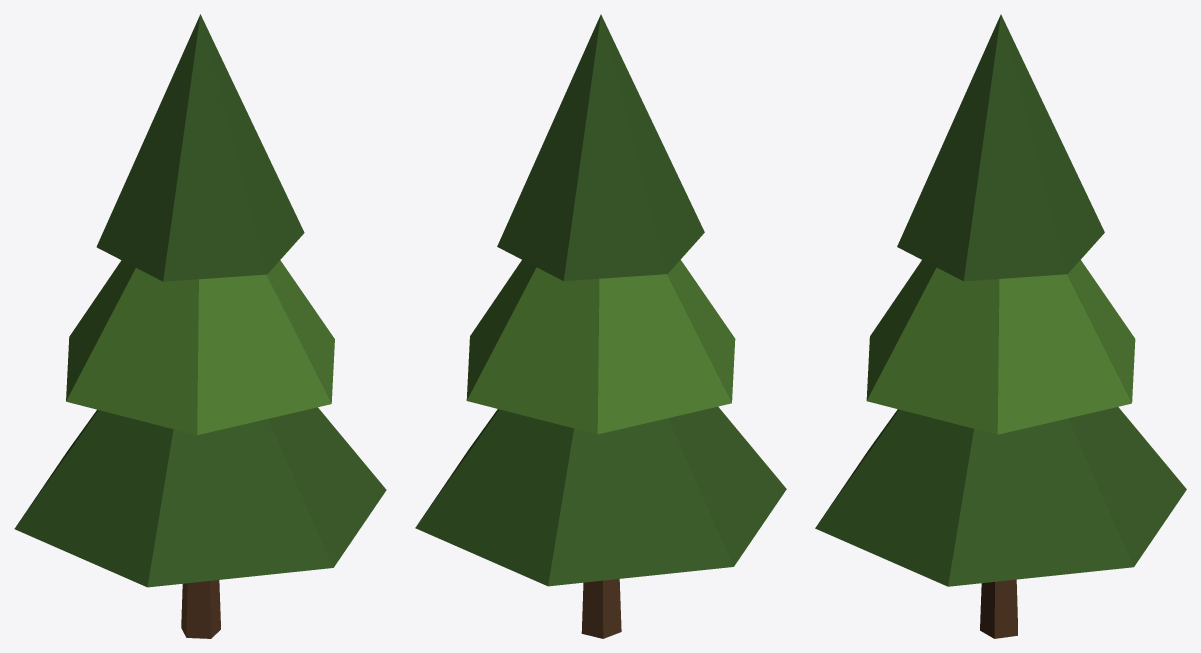
The model's file is SM_TreePine.fbx.
The picture shows the model from 3 angles, left to right: view 1: azimuth 30°, elevation 25°; view 2: azimuth 150°, elevation 25°; view 3: azimuth 270°, elevation 25°; orthographic projection.
Parts seen in each view (by area): view 1: SM_TreePine; view 2: SM_TreePine; view 3: SM_TreePine.
Part boxes in pixels (x1,y1,x2,y2): SM_TreePine: (14,14,386,638); SM_TreePine: (415,14,786,638); SM_TreePine: (815,14,1186,638).
Bounding box in the file's own units: 3.84 × 3.88 × 7.1.
